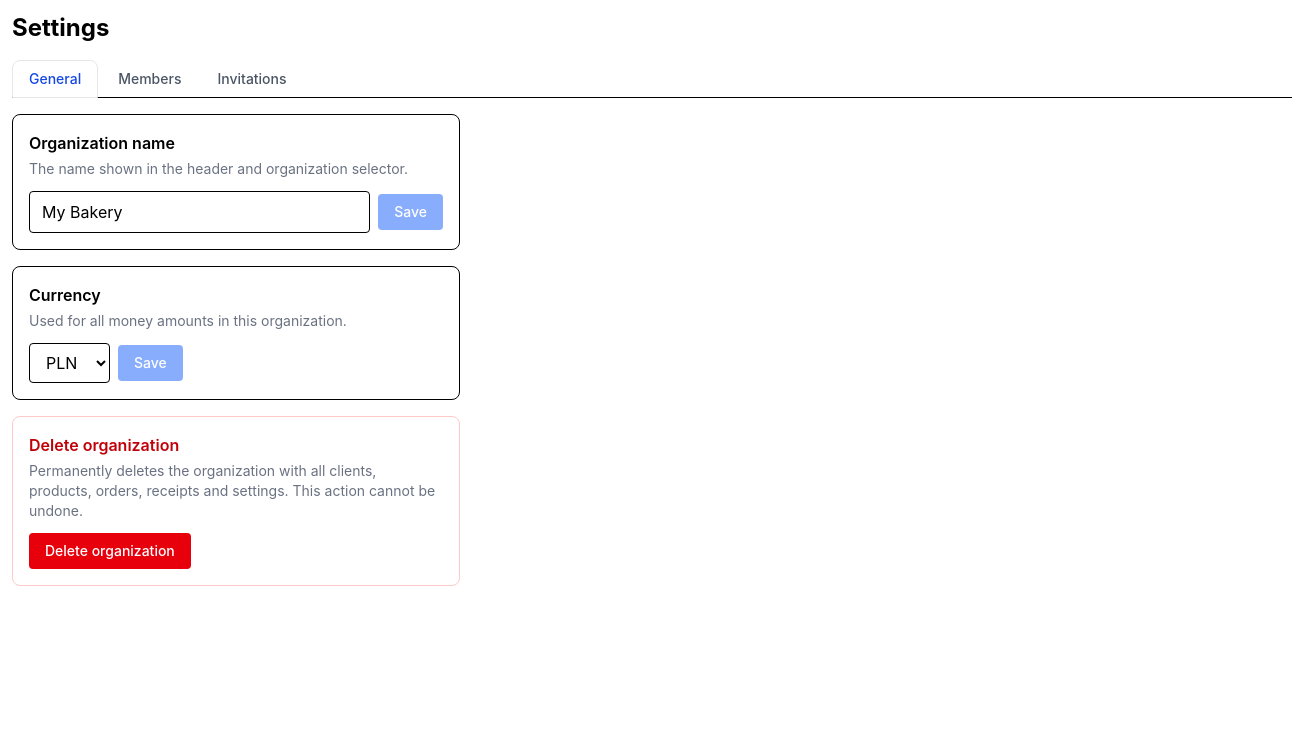
Test case: OrgSettingsPage › renders members list with role badges
Click the tab "Members". click: (150, 78)
box: top-left (102, 60), bottom-right (198, 97)
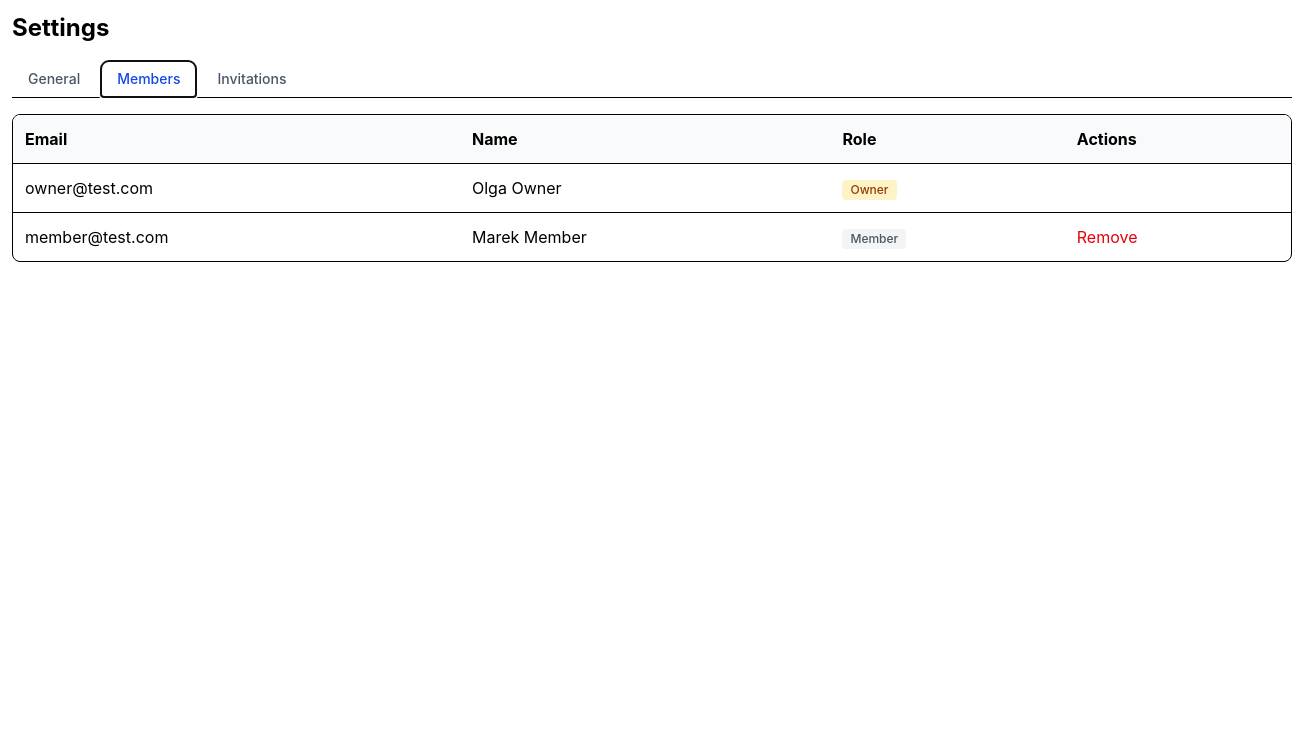
Check: the text "owner@test.com" is shown, box top-left (13, 164), bottom-right (460, 212)
Check: the text "member@test.com" is shown, box top-left (13, 212), bottom-right (460, 261)
Check: the text "Olga Owner" is shown, box top-left (460, 164), bottom-right (830, 212)
